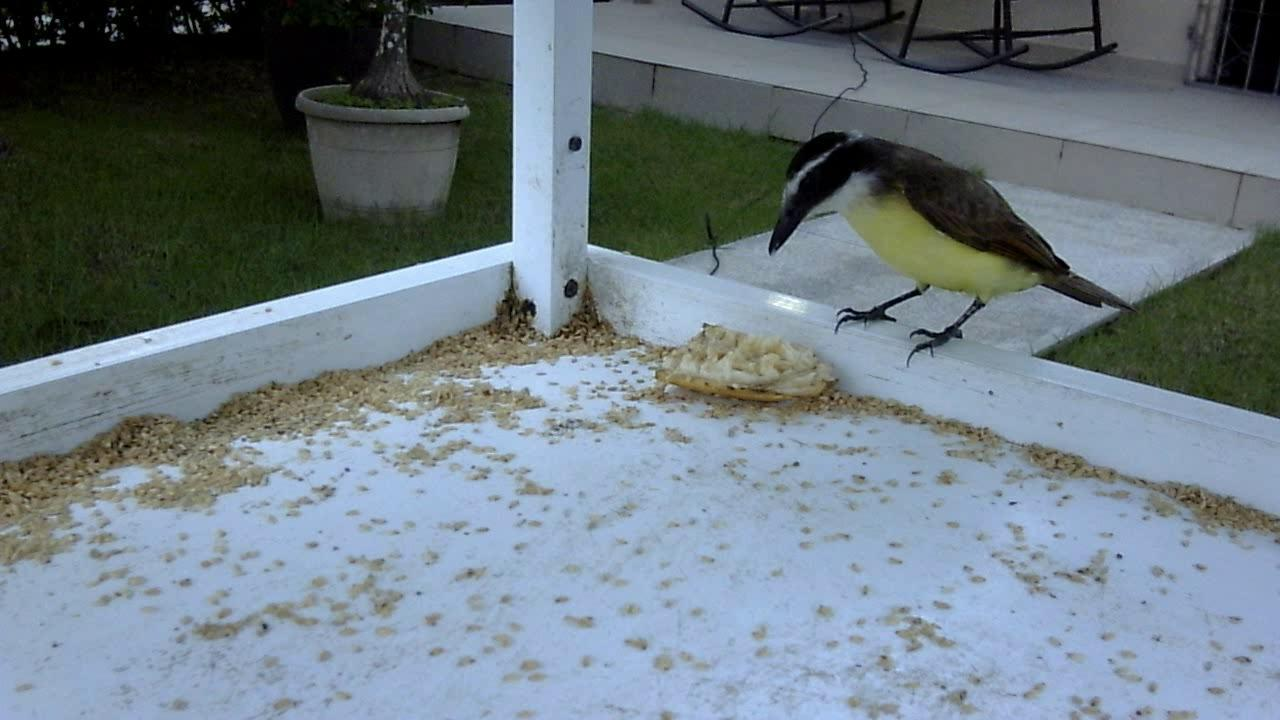bem_te_vi: (751, 116, 1146, 385)
